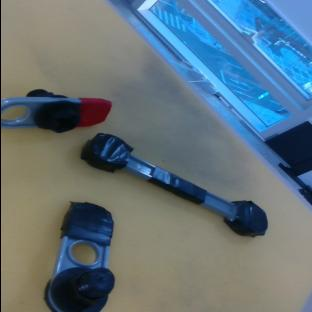part_1_good: (0, 85, 111, 141)
part_2_bad: (36, 197, 133, 312)
part_3_bad: (76, 126, 273, 246)
